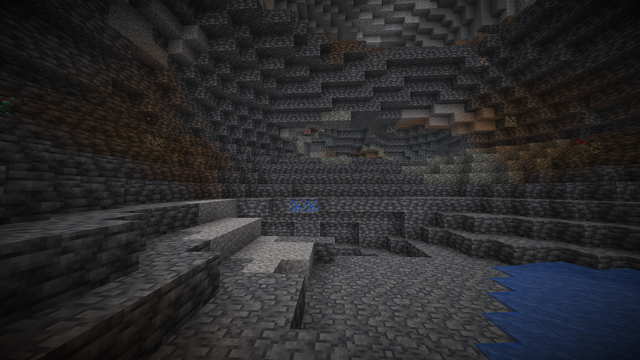lapis: (288, 196, 322, 215)
redstone: (303, 125, 316, 137)
